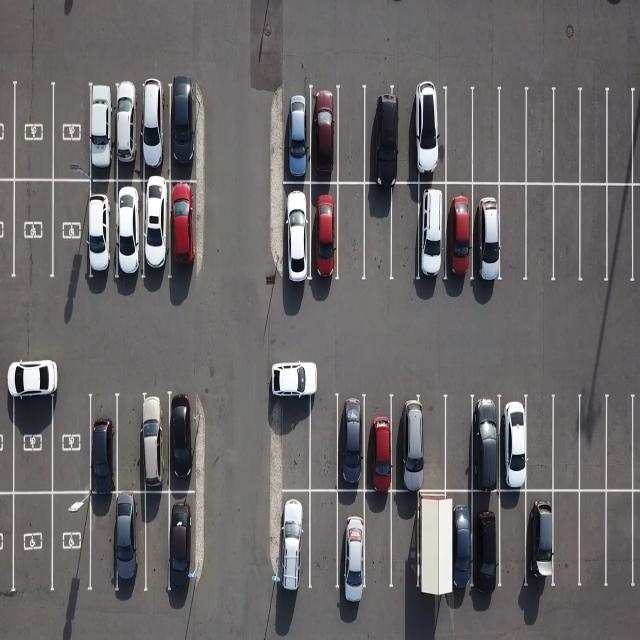space-empty: (12, 377, 53, 496), (51, 385, 94, 493), (9, 494, 52, 596), (51, 178, 91, 286), (10, 178, 50, 285), (12, 79, 50, 182), (308, 491, 344, 598), (493, 490, 529, 596), (53, 82, 90, 182), (604, 490, 640, 592), (360, 492, 394, 598), (413, 491, 447, 596), (549, 490, 583, 593), (573, 490, 608, 590), (114, 393, 149, 492), (86, 491, 119, 592), (574, 396, 608, 493), (576, 183, 608, 286), (550, 394, 584, 490), (310, 395, 343, 493), (524, 397, 558, 492), (607, 183, 638, 287), (605, 394, 638, 491), (494, 185, 526, 285), (441, 397, 475, 491), (337, 86, 370, 182), (389, 492, 421, 590), (551, 183, 582, 284), (527, 183, 558, 283), (391, 182, 422, 281), (335, 185, 366, 283), (551, 90, 583, 184), (526, 89, 558, 183), (576, 91, 607, 186), (362, 181, 392, 279), (608, 90, 638, 187), (442, 93, 473, 186), (419, 399, 449, 494), (496, 91, 526, 185), (472, 90, 502, 183)
space-occupied: (163, 490, 207, 596), (272, 488, 312, 598), (49, 494, 92, 595), (438, 492, 474, 602), (168, 182, 207, 283), (467, 490, 503, 598), (525, 485, 561, 589), (112, 493, 148, 596), (335, 486, 369, 593), (363, 85, 400, 183), (82, 182, 116, 288), (168, 396, 204, 495), (441, 183, 474, 286), (86, 392, 119, 493), (310, 180, 342, 284), (394, 397, 429, 492), (140, 182, 172, 285), (495, 399, 530, 493), (416, 182, 448, 284), (336, 396, 370, 491), (362, 396, 396, 490), (114, 180, 145, 282), (472, 183, 503, 285), (413, 87, 446, 182), (471, 397, 504, 491), (140, 394, 171, 492), (284, 181, 312, 287), (139, 83, 169, 181), (312, 86, 342, 182), (171, 85, 201, 181), (86, 83, 115, 181), (115, 84, 142, 180), (285, 89, 312, 184)
